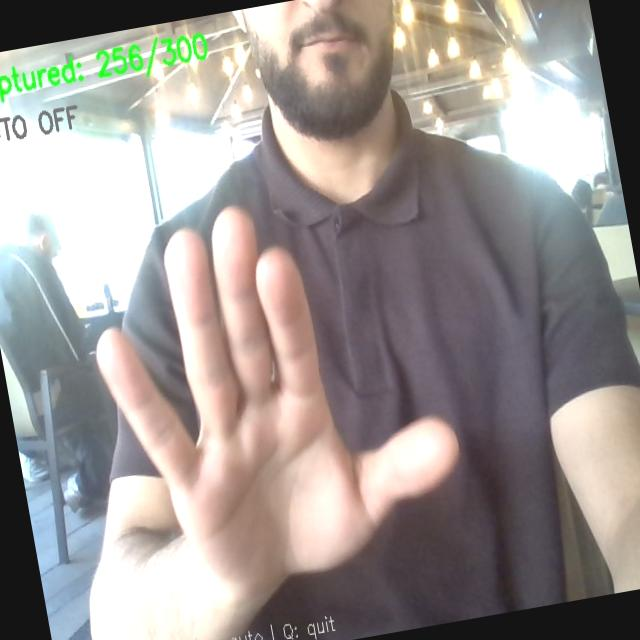Hand: (98, 209, 458, 599)
